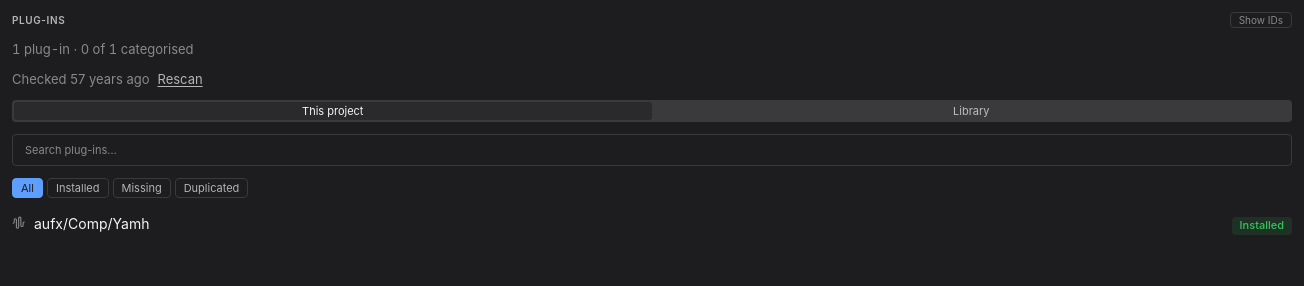
<PluginRail /> › expanding a long name reveals copy/search actions on an installed row
This screenshot has width=1304, height=286.
Click the button "aufx/Comp/Yamh" at (92, 224), box [34,214,1224,234]
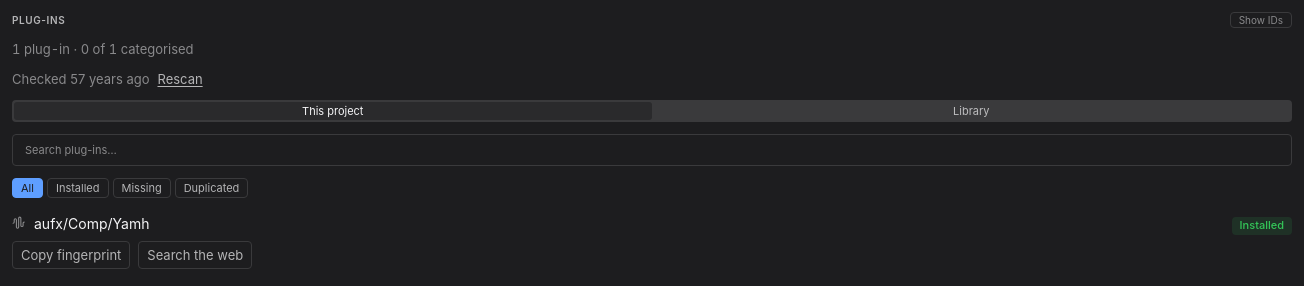
Expected: the button "Copy fingerprint" is shown, [12,241,130,269]
